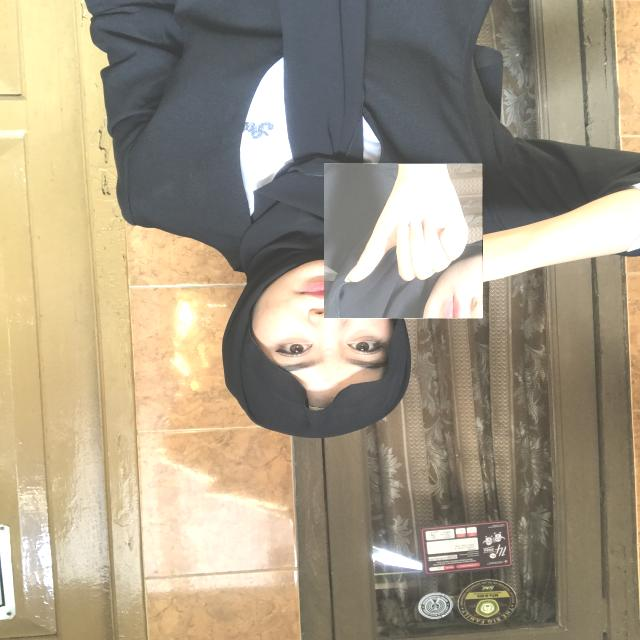sedih: (324, 163, 482, 319)
